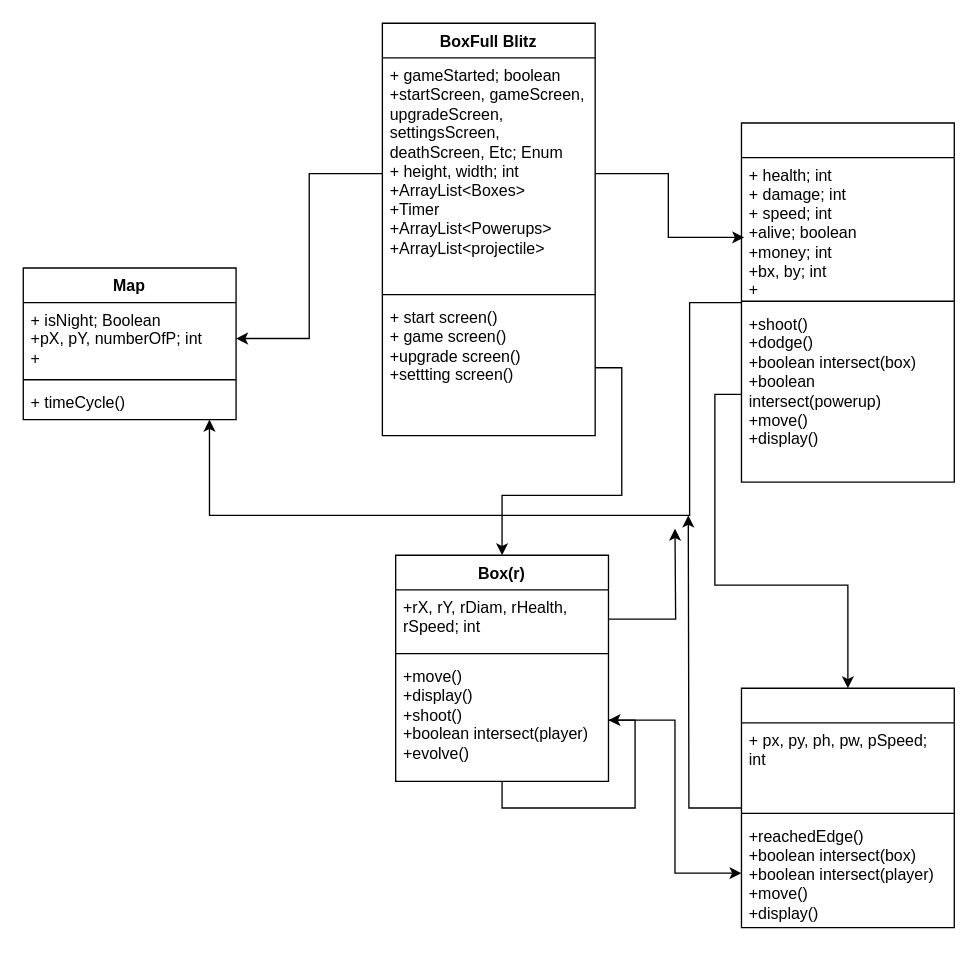
Image size: 978x955. Some labels were removed from this diagram. Here are the shapes that lost their labels. From the top down, the box of each, then its label:
(740, 122, 954, 482): Player
(740, 687, 954, 928): Projectile
